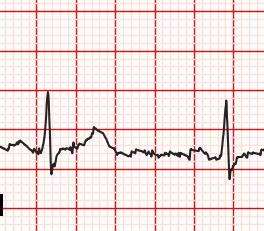ST Depression: (36, 142, 64, 179), (216, 153, 242, 181)
